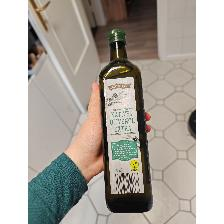Oel: (98, 28, 154, 216)
